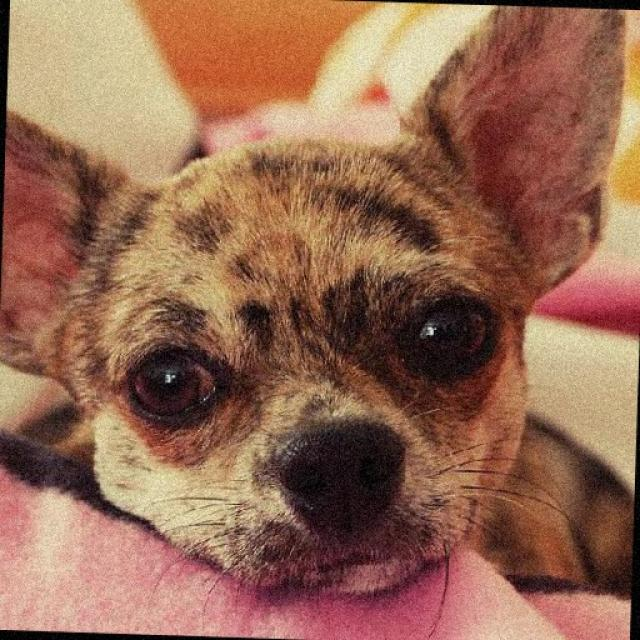sad: (5, 20, 640, 605)
